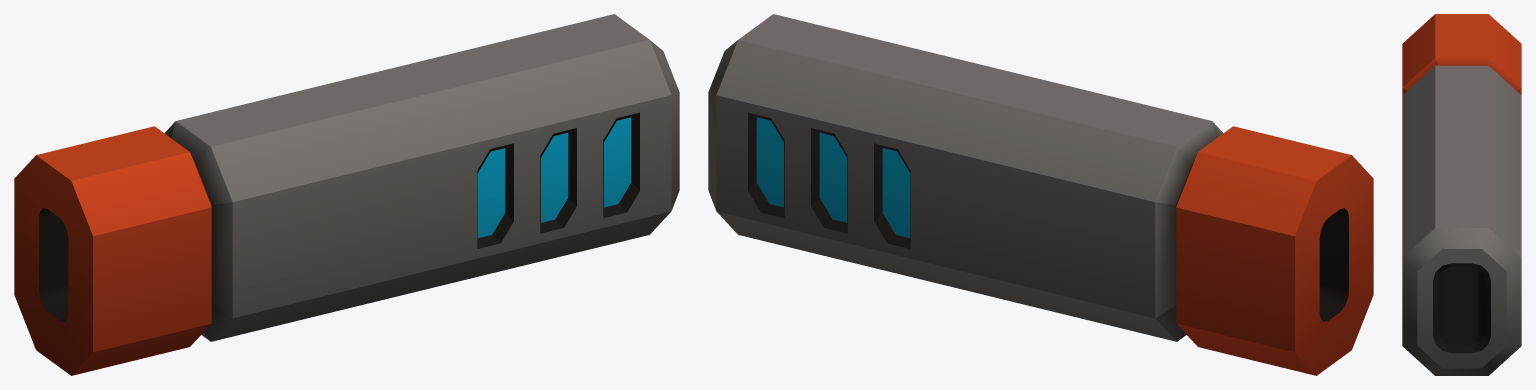
File: Muzzle_Caliber1_03.fbx
3 views of the same model, side by side, from view 1: azimuth 30°, elevation 25°; view 2: azimuth 150°, elevation 25°; view 3: azimuth 270°, elevation 25° (orthographic). The views are drawn at different scales.
Parts seen in each view (by area): view 1: Muzzle_Caliber1_03; view 2: Muzzle_Caliber1_03; view 3: Muzzle_Caliber1_03.
Boxes of the visible parts, bbox=[...] form: Muzzle_Caliber1_03: bbox=[14, 14, 679, 375]; Muzzle_Caliber1_03: bbox=[708, 14, 1373, 375]; Muzzle_Caliber1_03: bbox=[1402, 14, 1521, 375].
Size of the model in its own units: 20.33 by 6.35 by 4.65.
